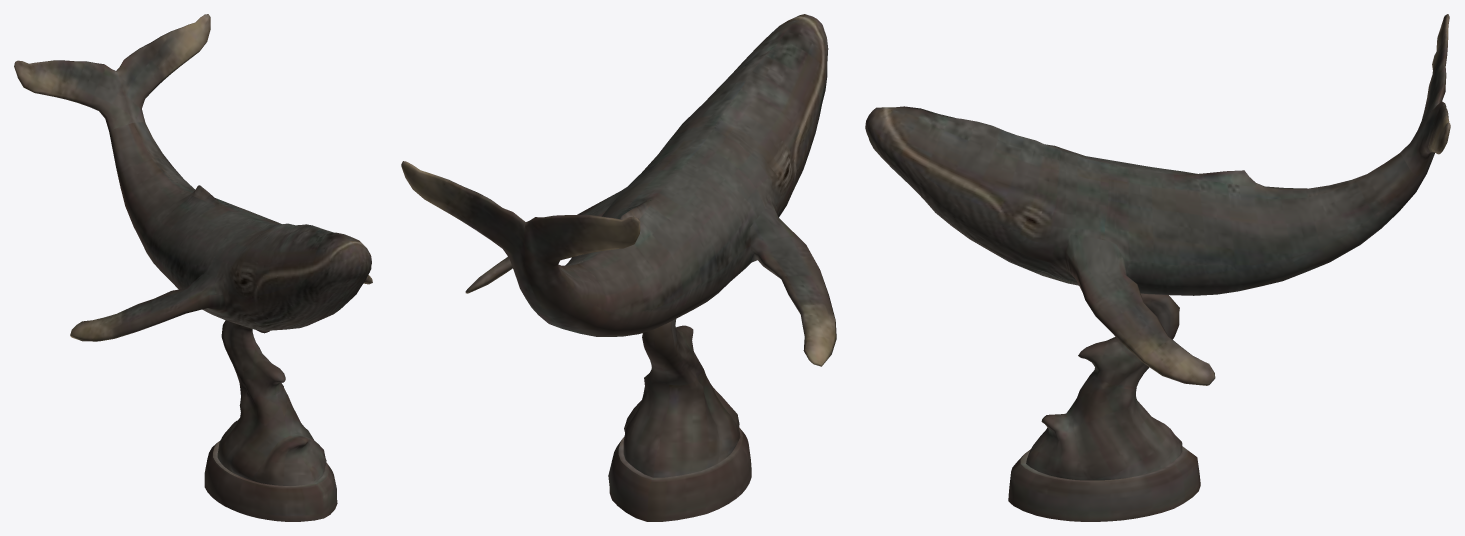
Rendered from bronze_whale_statue.gltf.
3 renders of one model, left to right at view 1: azimuth 30°, elevation 25°; view 2: azimuth 150°, elevation 25°; view 3: azimuth 270°, elevation 25°, orthographic. The views are drawn at different scales.
Visible parts, largest first — view 1: bronze_whale_statue; view 2: bronze_whale_statue; view 3: bronze_whale_statue.
Part boxes in pixels (box(x1,y1,x2,y2)): bronze_whale_statue: box(14, 14, 372, 521); bronze_whale_statue: box(401, 14, 836, 521); bronze_whale_statue: box(865, 14, 1450, 521).
Bounding box in the file's own units: 0.932 × 1.07 × 1.37.
Materials: 1 (1 with a texture image).
